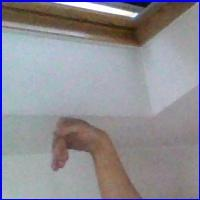del: (42, 111, 116, 179)
